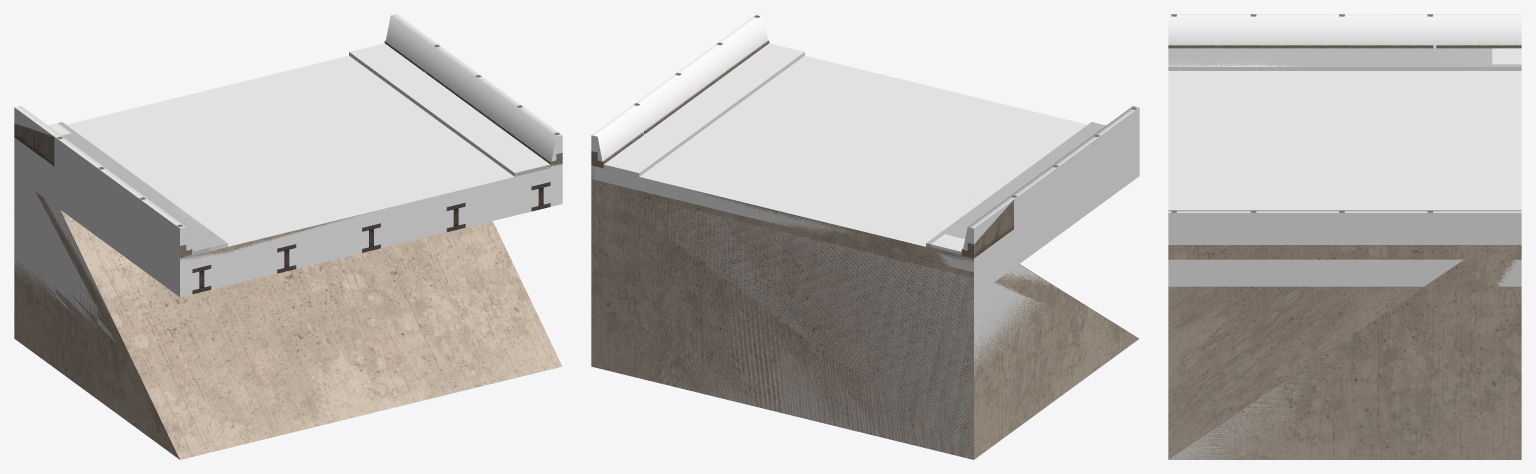
Rendered from street_overpass_end.fbx.
The picture shows the model from 3 angles, left to right: view 1: azimuth 30°, elevation 25°; view 2: azimuth 150°, elevation 25°; view 3: azimuth 270°, elevation 25°; orthographic projection. The views are drawn at different scales.
Visible parts, largest first — view 1: street_overpass_end_COL, street_overpass_end; view 2: street_overpass_end_COL, street_overpass_end; view 3: street_overpass_end_COL, street_overpass_end.
Part boxes in pixels (x1=…): street_overpass_end_COL: x1=14, y1=14, x2=562, y2=341; street_overpass_end: x1=14, y1=40, x2=562, y2=459; street_overpass_end_COL: x1=591, y1=14, x2=1139, y2=459; street_overpass_end: x1=591, y1=15, x2=1138, y2=459; street_overpass_end_COL: x1=1168, y1=14, x2=1521, y2=459; street_overpass_end: x1=1168, y1=14, x2=1521, y2=459.
Bounding box in the file's own units: 1600 × 925 × 1200.
